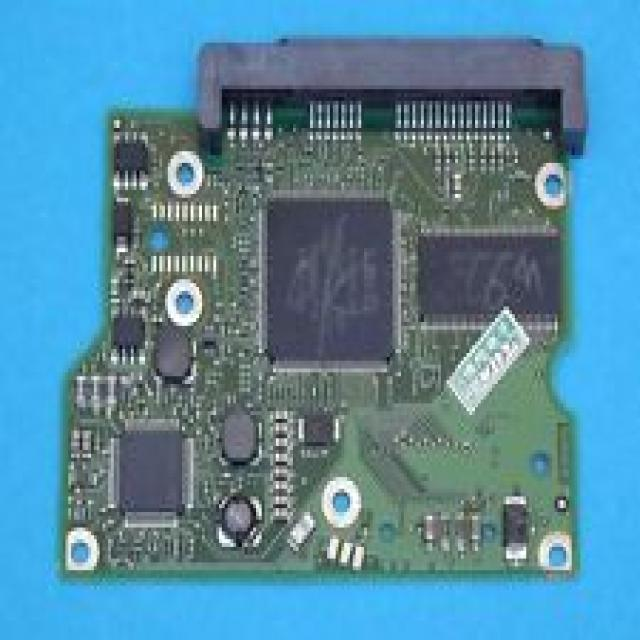pcb: (51, 24, 600, 598), (256, 190, 401, 372), (105, 415, 194, 524)
